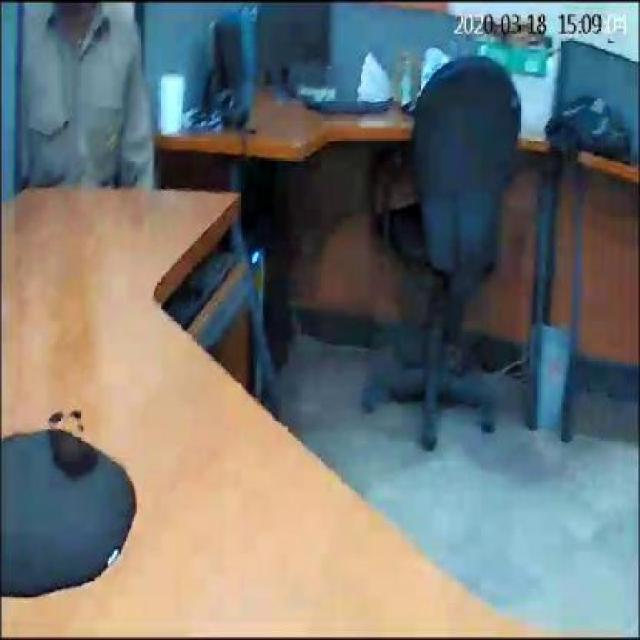spill: (0, 423, 142, 591)
